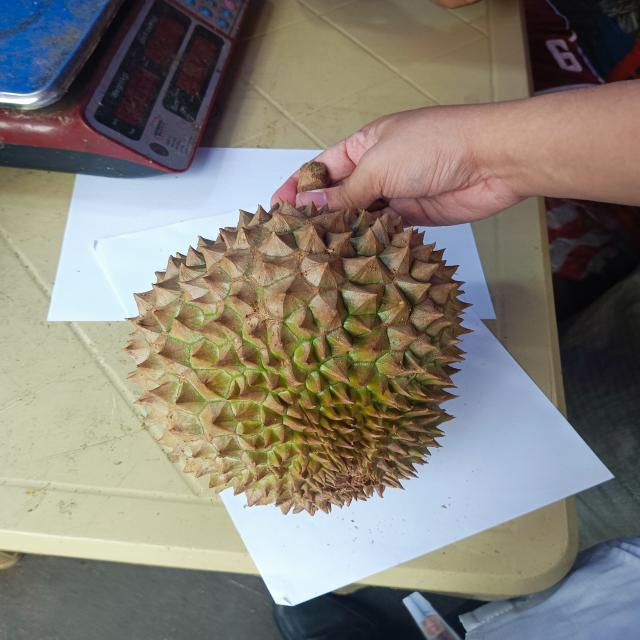mature: (122, 194, 468, 512)
